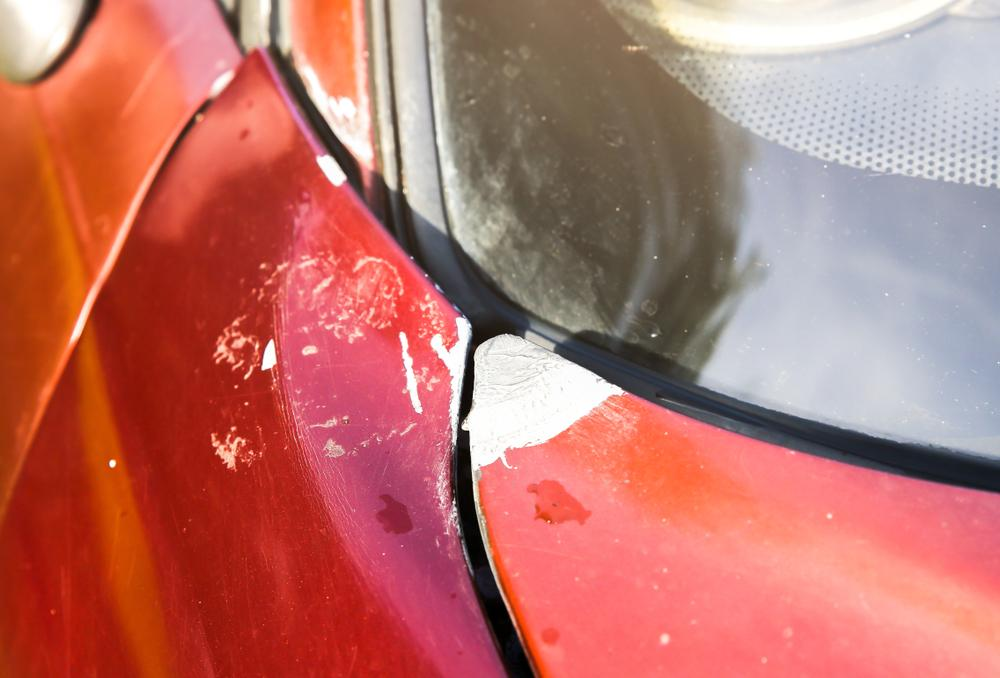scratch: (181, 223, 475, 487), (468, 333, 631, 472)
